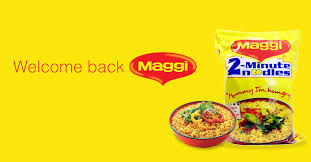maggi: (221, 36, 290, 143)
